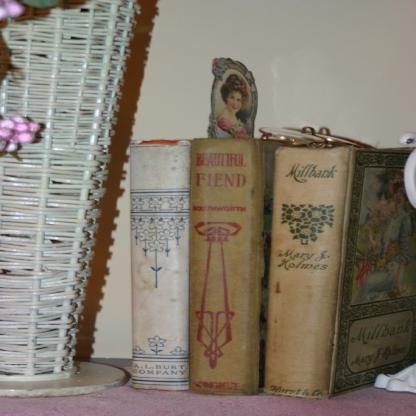book: (266, 140, 416, 398), (155, 108, 273, 384), (124, 135, 202, 393)
